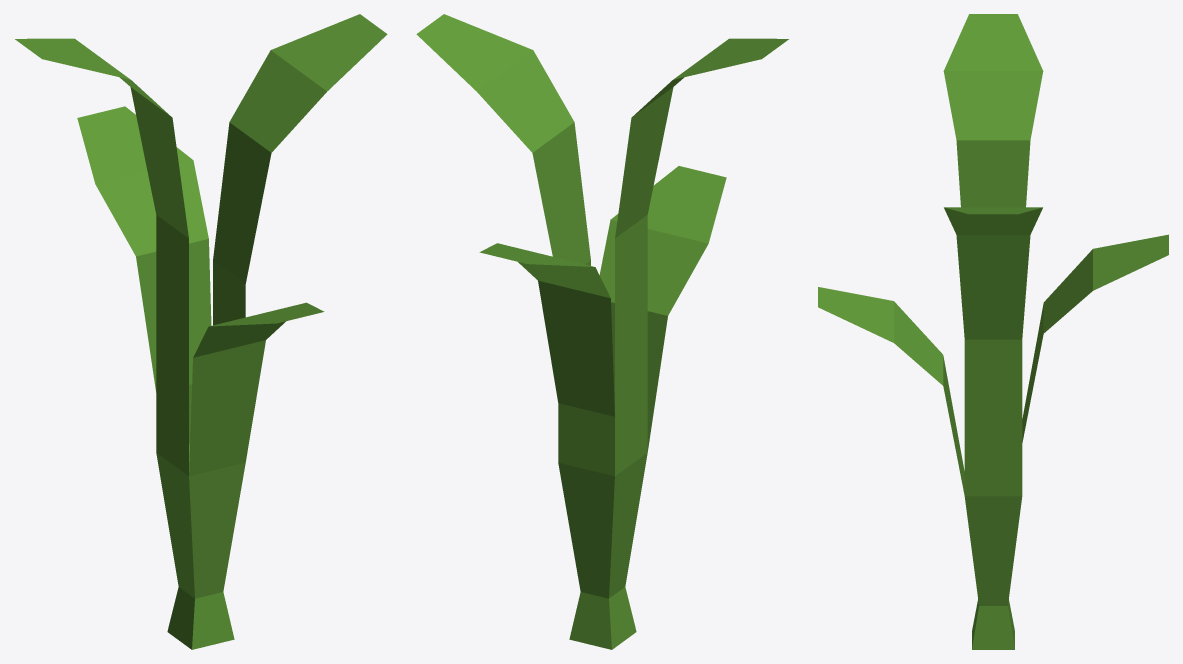
File: crop_greens.glb
3 views of the same model, side by side, from view 1: azimuth 30°, elevation 25°; view 2: azimuth 150°, elevation 25°; view 3: azimuth 270°, elevation 25° (orthographic). The views are drawn at different scales.
Visible parts, largest first — view 1: crops_leafsStageB; view 2: crops_leafsStageB; view 3: crops_leafsStageB.
Part boxes in pixels (bbox=[...]): crops_leafsStageB: bbox=[15, 14, 387, 649]; crops_leafsStageB: bbox=[416, 14, 788, 649]; crops_leafsStageB: bbox=[818, 14, 1168, 649].
Bounding box in the file's own units: 0.2588 × 0.45 × 0.2588.
